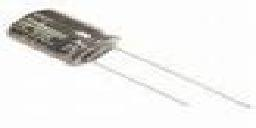Electrolytic-Capacitor: (6, 7, 256, 109)
